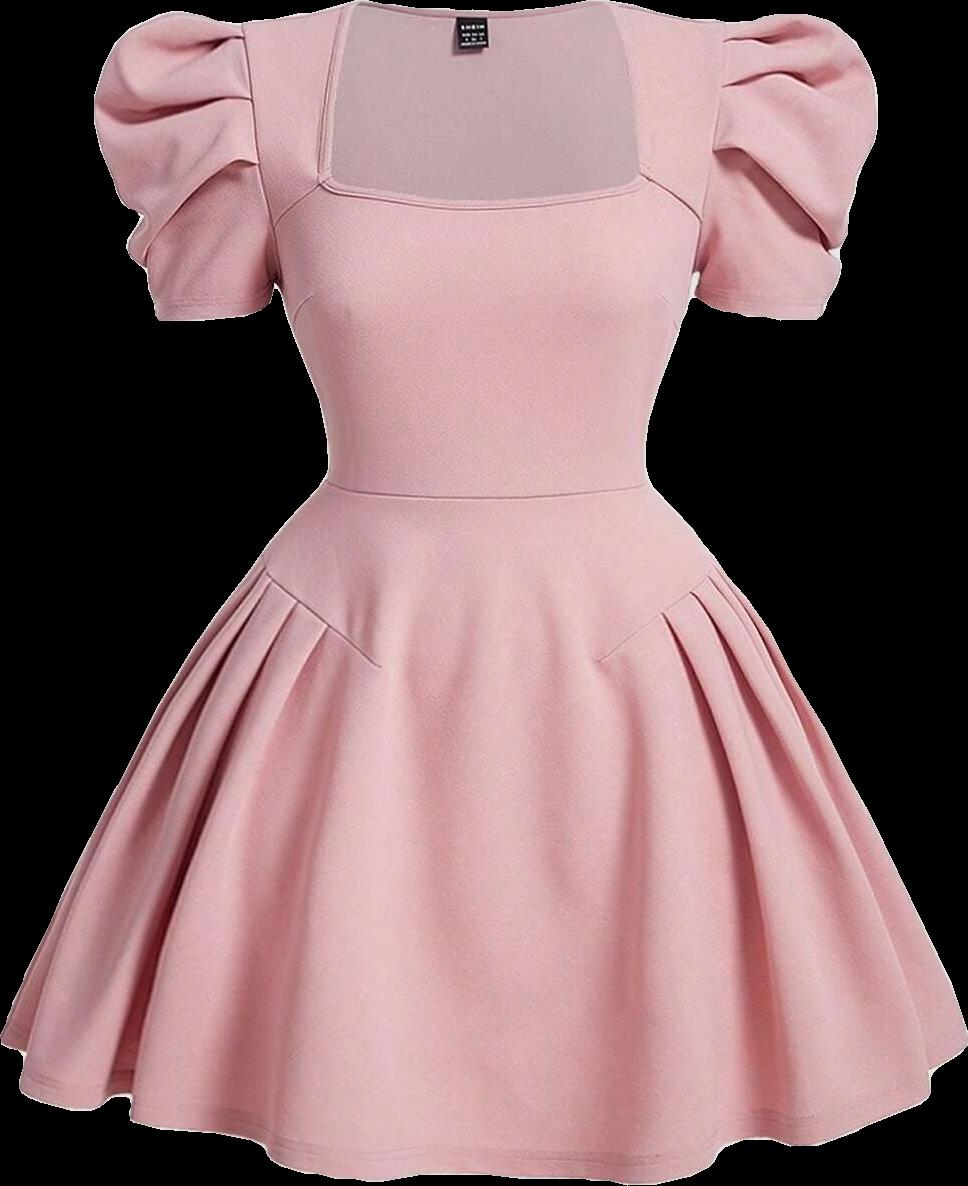Bodice: (239, 0, 730, 503)
Hemline: (0, 1031, 967, 1185)
Neckline: (318, 0, 655, 213)
Skirt: (1, 483, 967, 1183)
Sleeve: (678, 14, 877, 333), (94, 11, 273, 320)
Sleeveline: (686, 20, 738, 282), (231, 20, 283, 274)
Waistline: (314, 477, 657, 514)
